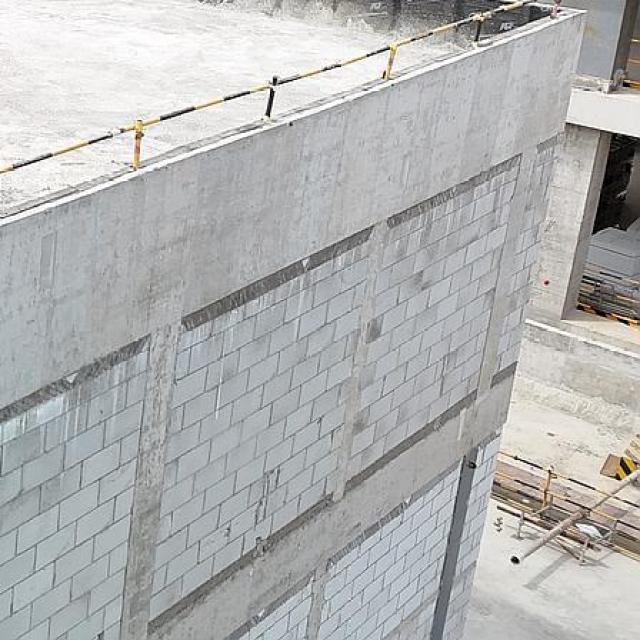edge_guardrail: (0, 0, 564, 178), (488, 447, 640, 559), (577, 264, 640, 309), (625, 37, 640, 64)
